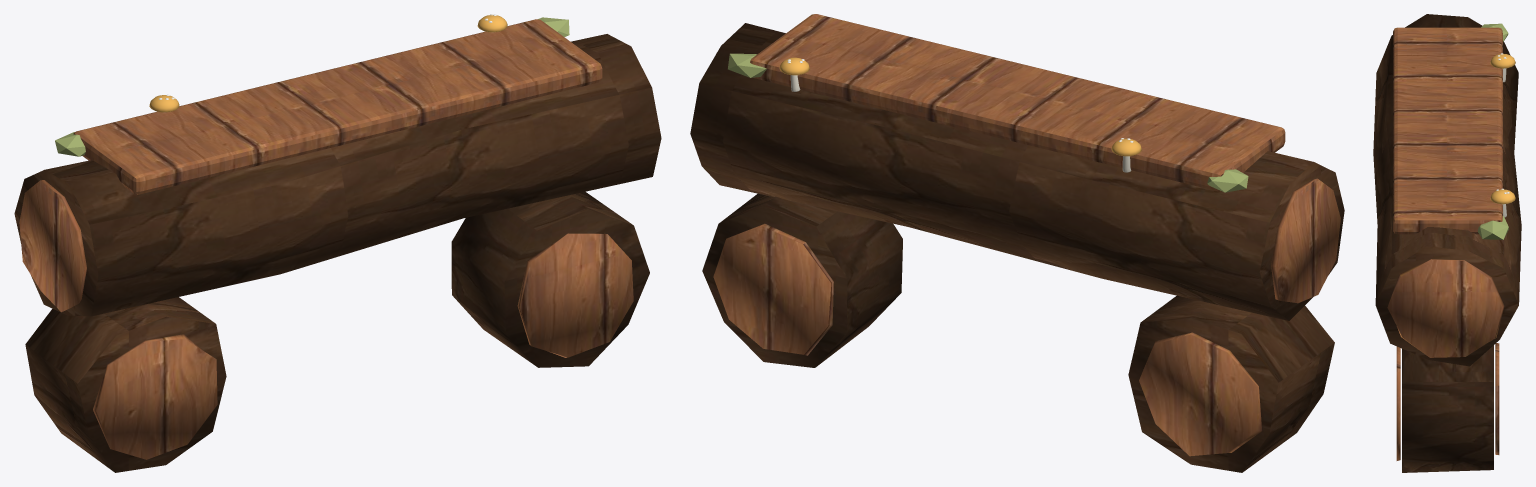
The model's file is mossy_bench.glb.
3 views of the same model, side by side, from view 1: azimuth 30°, elevation 25°; view 2: azimuth 150°, elevation 25°; view 3: azimuth 270°, elevation 25° (orthographic). The views are drawn at different scales.
Visible parts, largest first — view 1: model; view 2: model; view 3: model.
Part boxes in pixels (<box>): model: <box>14,14,661,472</box>; model: <box>690,14,1344,472</box>; model: <box>1373,14,1521,472</box>.
Size of the model in its own units: 1.22 by 0.6422 by 0.3235.
10 materials, 3 textured.
